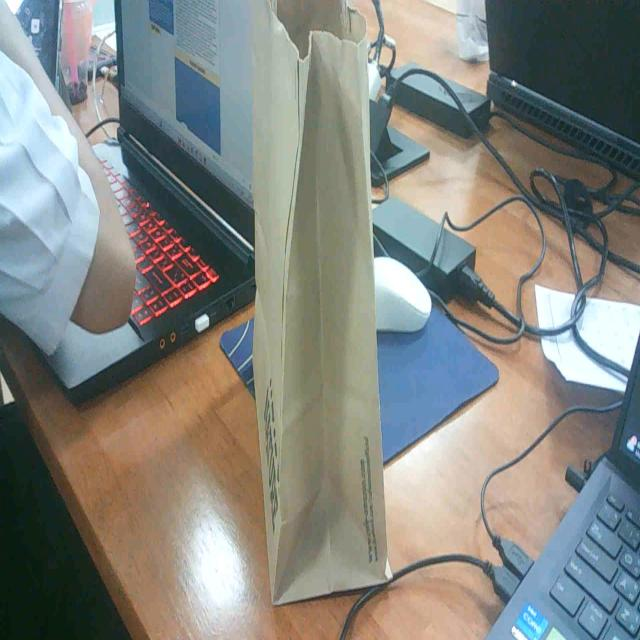bag: (236, 26, 427, 606)
